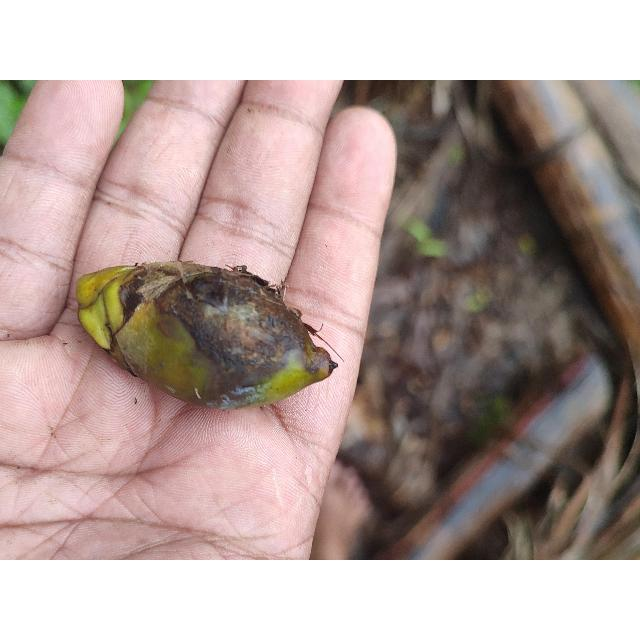damaged: (70, 259, 339, 412)
